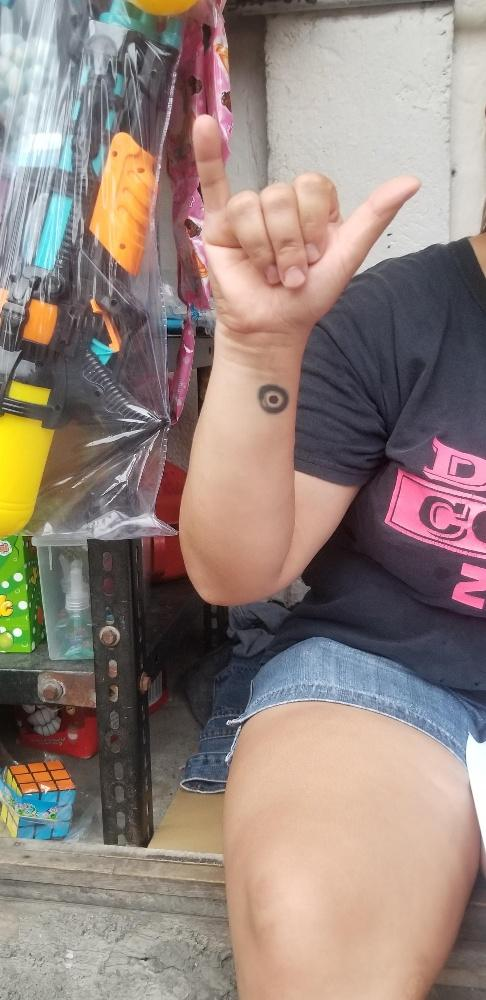y: (191, 114, 422, 331)
